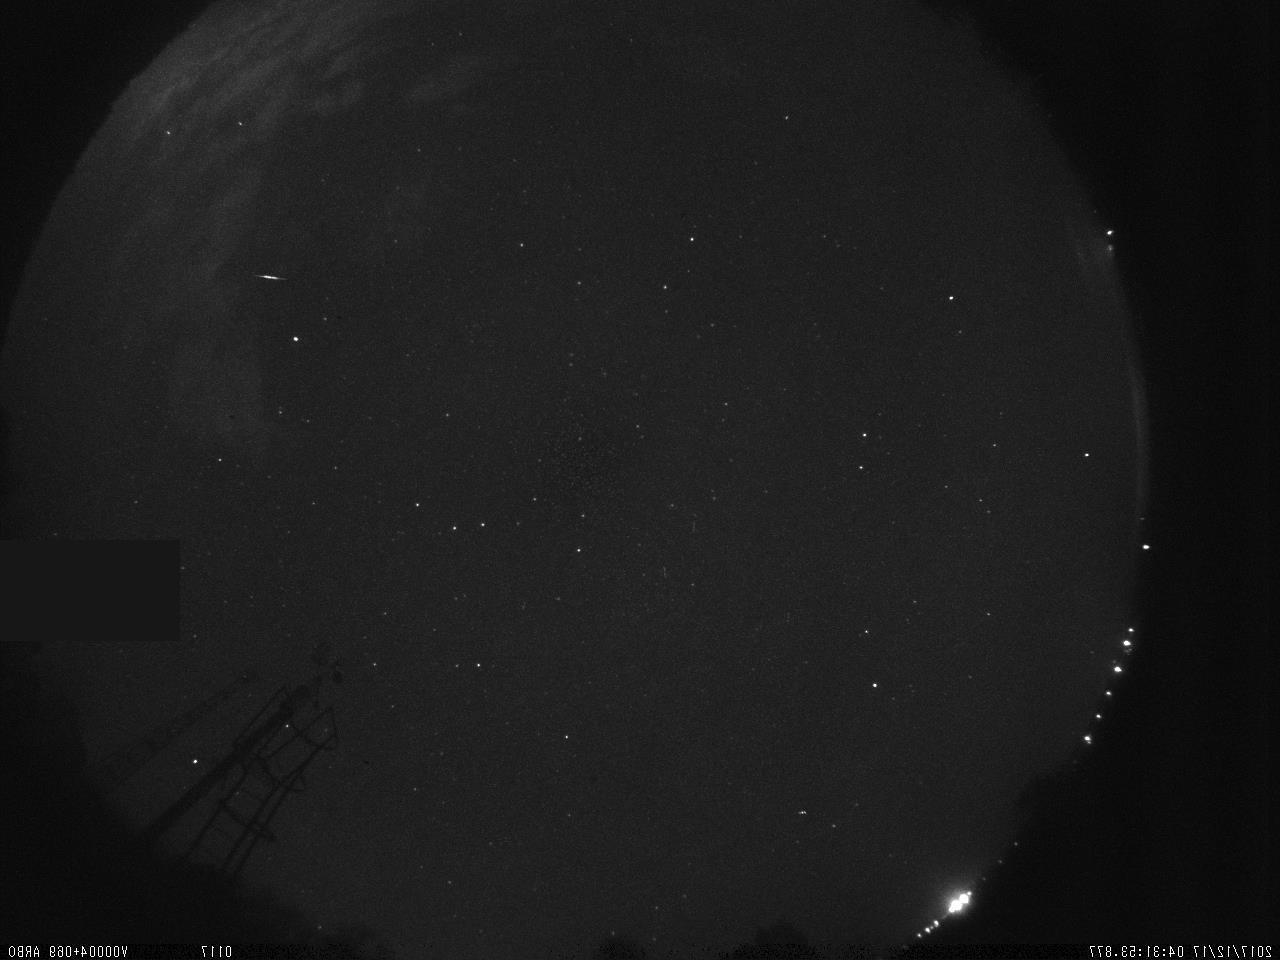meteor: (252, 268, 290, 286)
